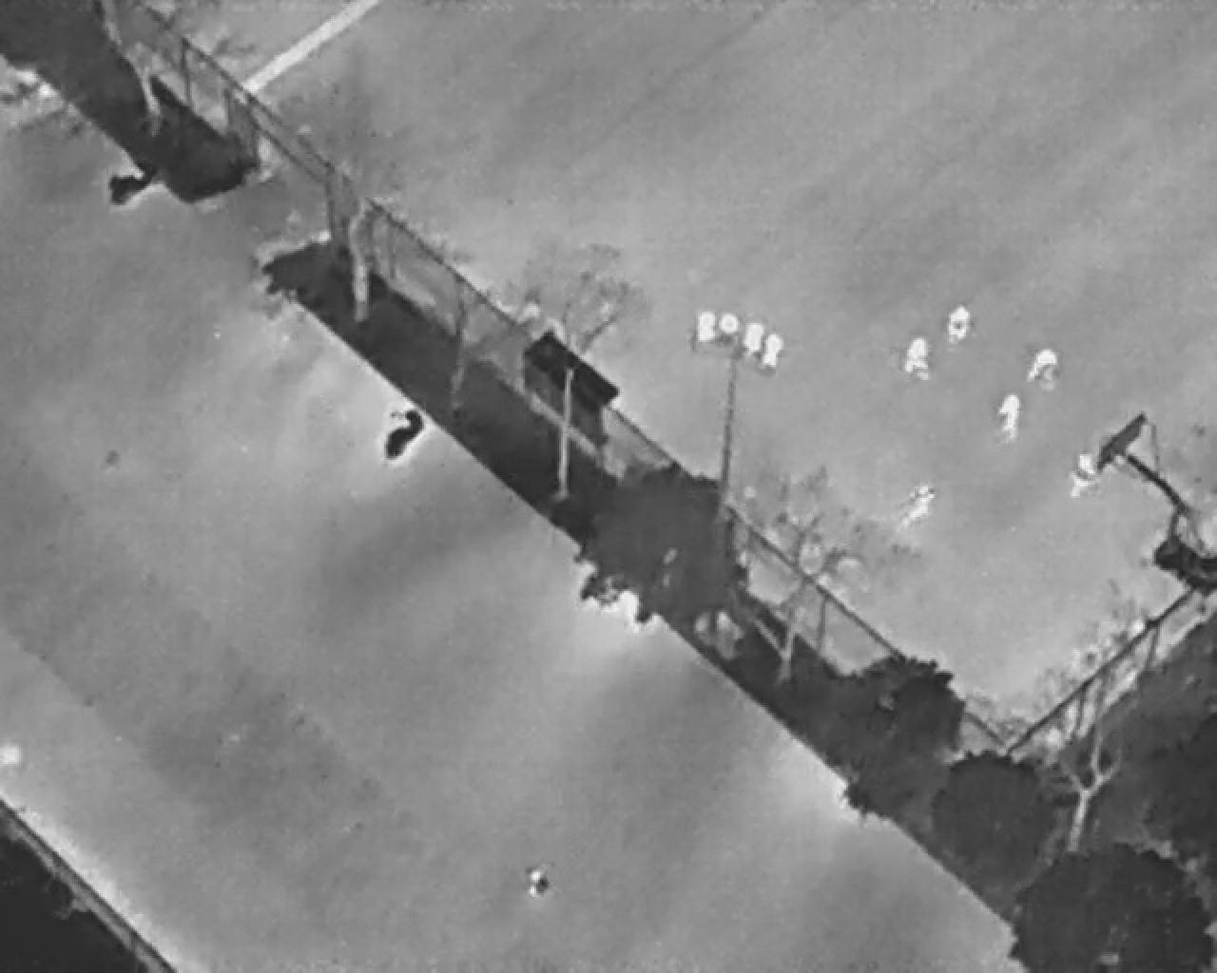person: (1026, 347, 1060, 392), (1070, 451, 1100, 499), (906, 482, 937, 525), (997, 391, 1022, 440), (906, 335, 929, 383), (948, 305, 975, 345), (524, 868, 551, 902)
